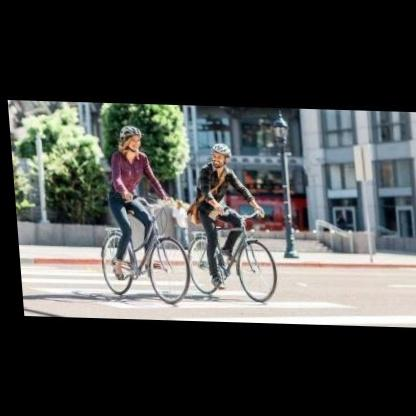Bicycle: (86, 187, 201, 306), (183, 203, 287, 309)
